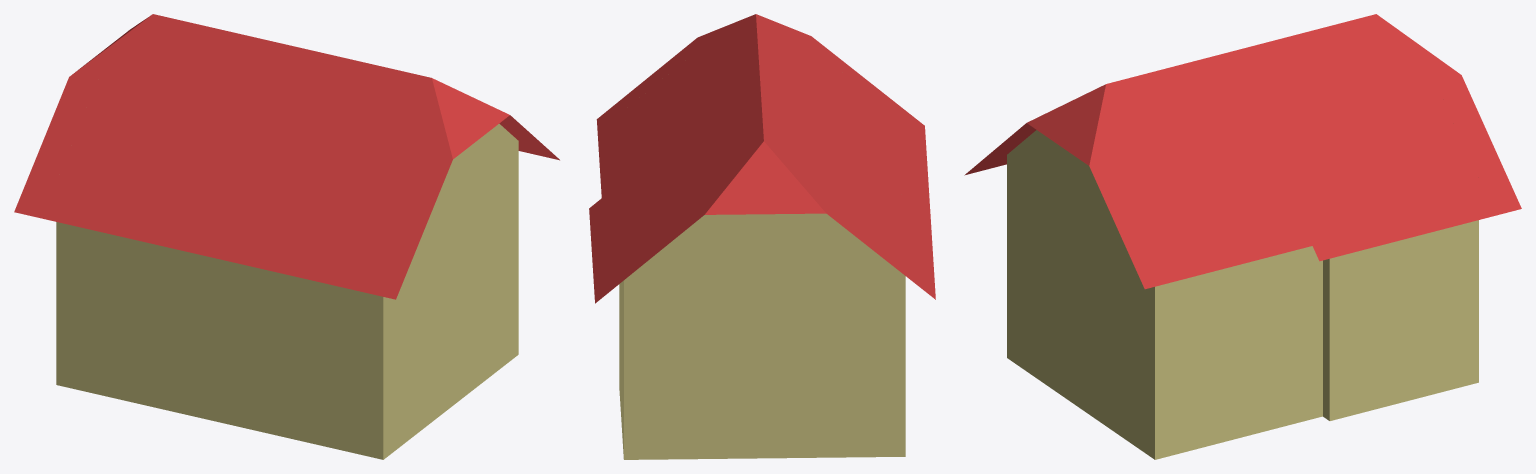
3 views of the same model, side by side, from view 1: azimuth 30°, elevation 25°; view 2: azimuth 150°, elevation 25°; view 3: azimuth 270°, elevation 25° (orthographic). The views are drawn at different scales.
Size of the model in its own units: 16.75 by 17.91 by 11.39.
